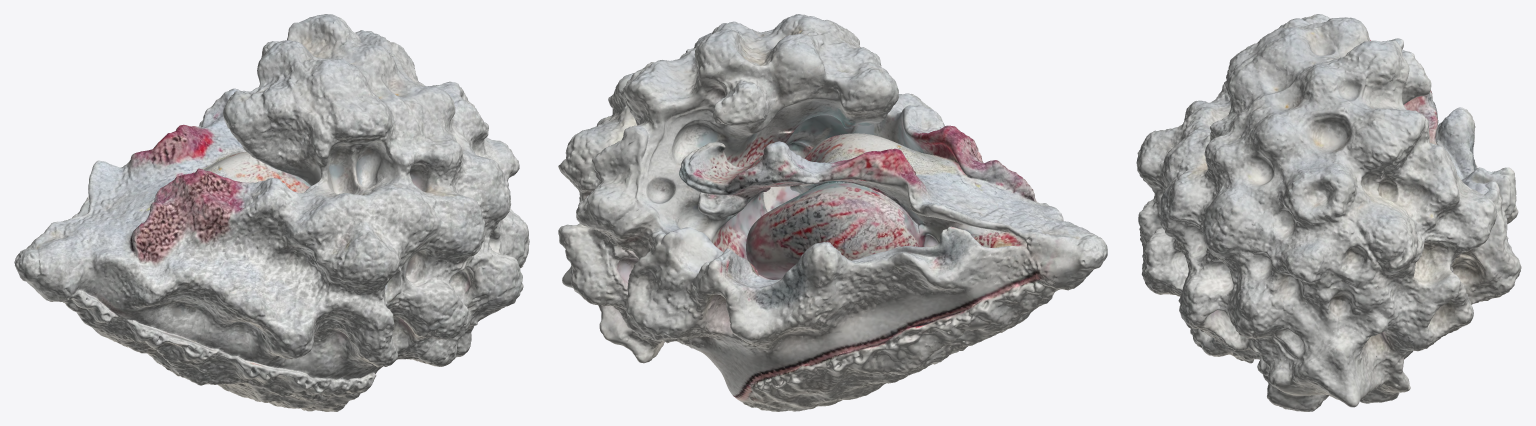
The model's file is muszelka-opt.glb.
The picture shows the model from 3 angles, left to right: view 1: azimuth 30°, elevation 25°; view 2: azimuth 150°, elevation 25°; view 3: azimuth 270°, elevation 25°; orthographic projection. The views are drawn at different scales.
Bounding box in the file's own units: 1.9 × 1.32 × 1.27.
1 material, 1 textured.
